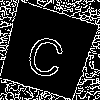C: (23, 25, 71, 81)
